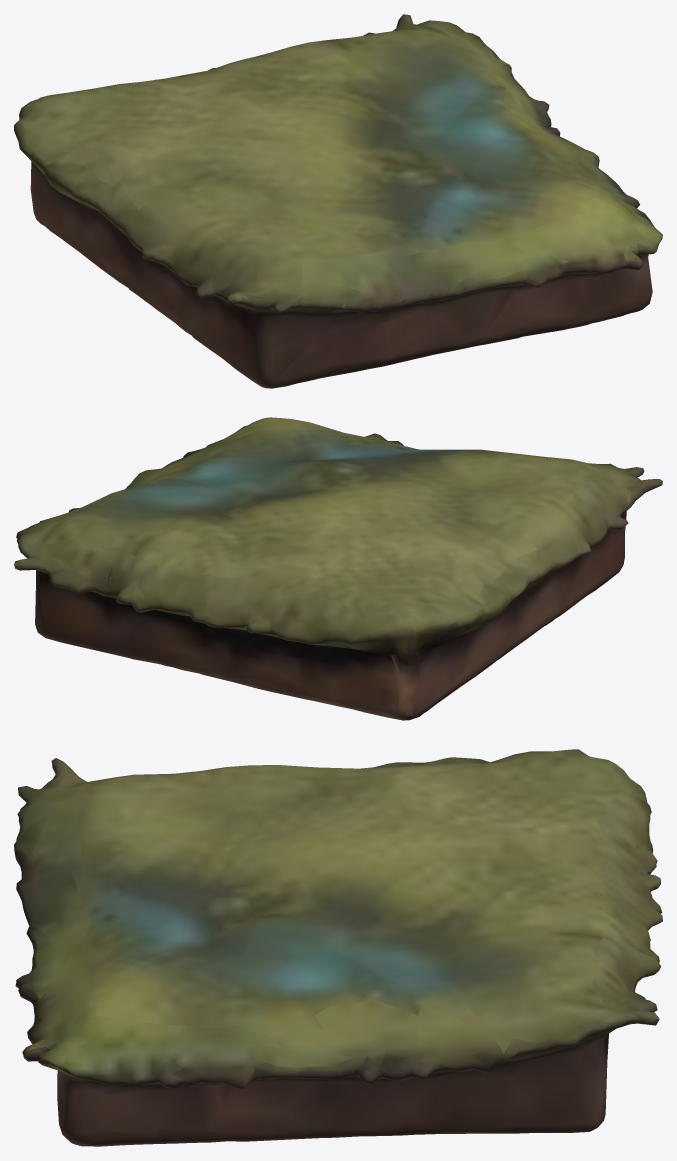
File: m09_brejo_capim.glb
3 views of the same model, one above another, from view 1: azimuth 30°, elevation 25°; view 2: azimuth 150°, elevation 25°; view 3: azimuth 270°, elevation 25° (orthographic). The views are drawn at different scales.
Parts seen in each view (by area): view 1: m09_brejo_capim; view 2: m09_brejo_capim; view 3: m09_brejo_capim.
Part boxes in pixels (bbox=[...]): m09_brejo_capim: bbox=[14, 14, 662, 388]; m09_brejo_capim: bbox=[14, 417, 662, 720]; m09_brejo_capim: bbox=[14, 749, 662, 1146].
Bounding box in the file's own units: 1.14 × 0.3253 × 1.12.
1 material, 1 textured.
